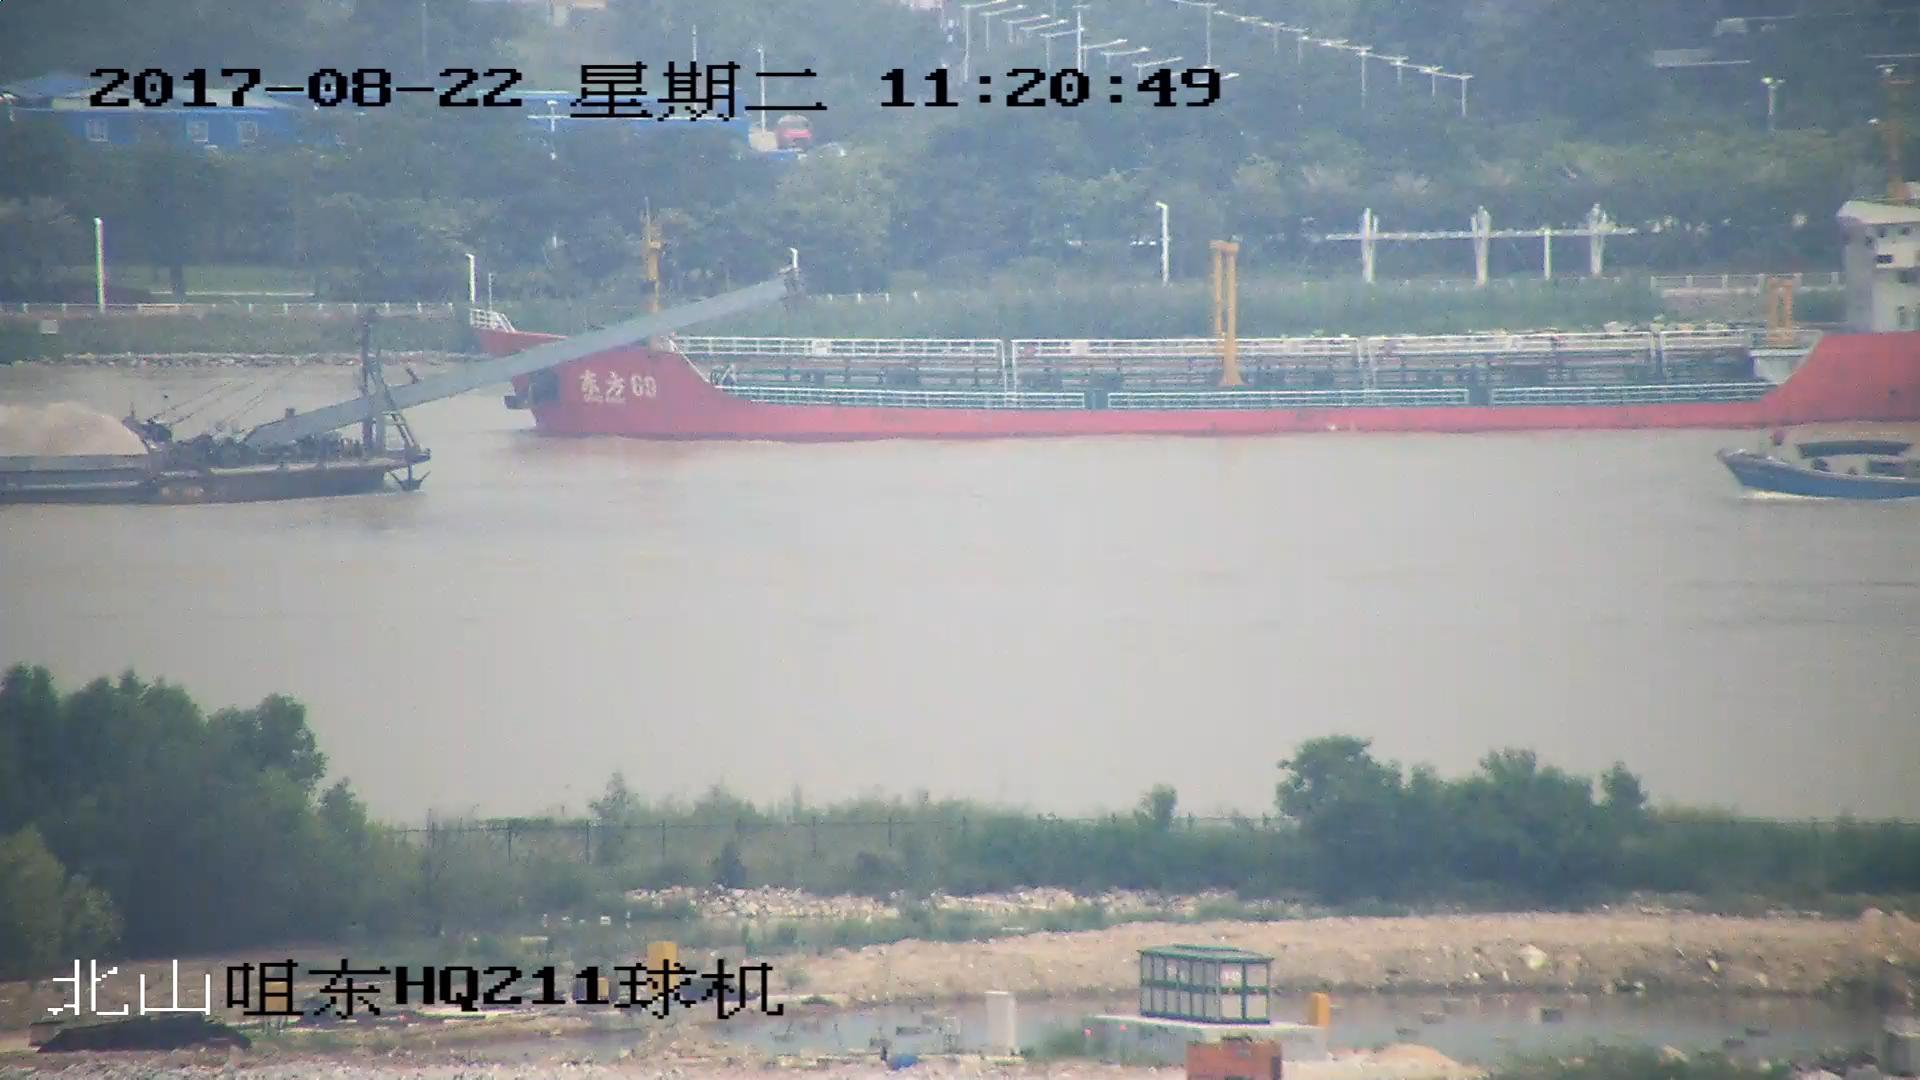Ship: (465, 113, 1920, 436), (3, 274, 790, 506), (1720, 433, 1920, 500)
